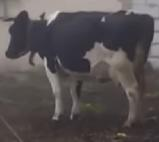cow: (5, 11, 155, 127)
